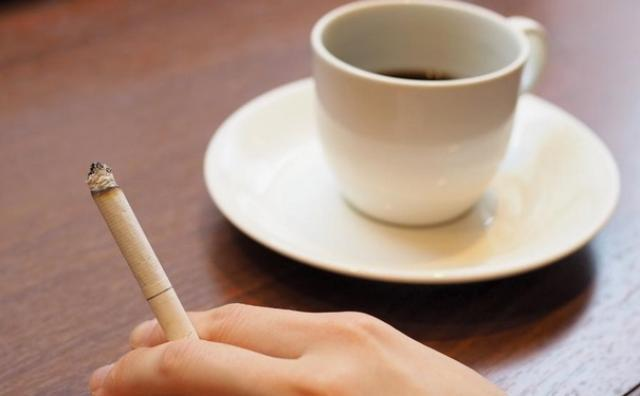Smoking: (82, 160, 196, 340)
